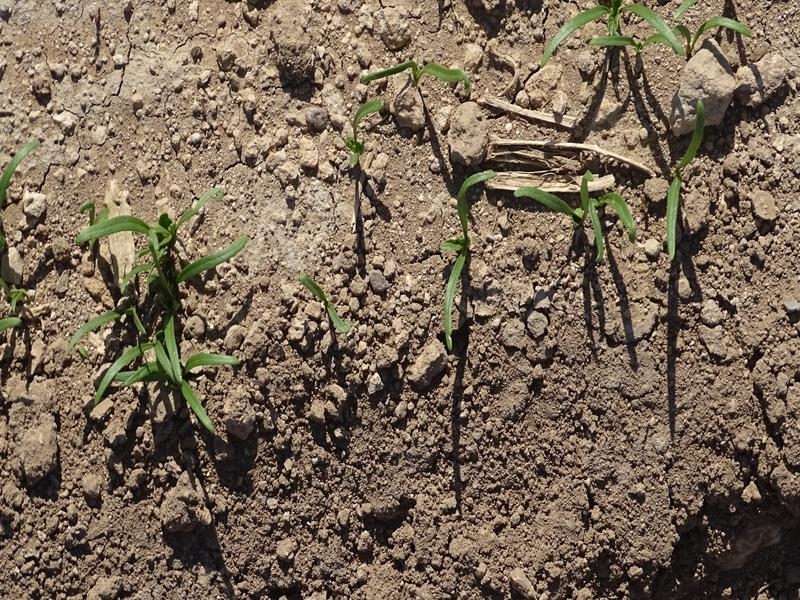Espinaca: (81, 204, 242, 427), (530, 4, 760, 59), (439, 172, 485, 350), (521, 175, 638, 244), (669, 99, 704, 271), (364, 58, 481, 87), (345, 98, 388, 170), (302, 278, 352, 337), (1, 140, 45, 185)
